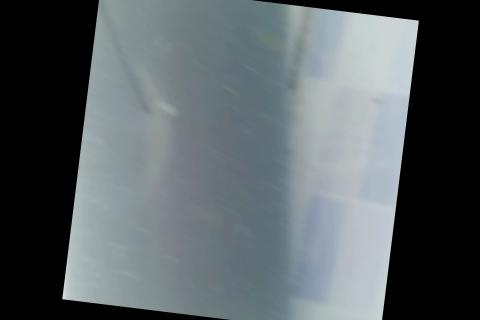keretakan: (85, 0, 171, 116)
